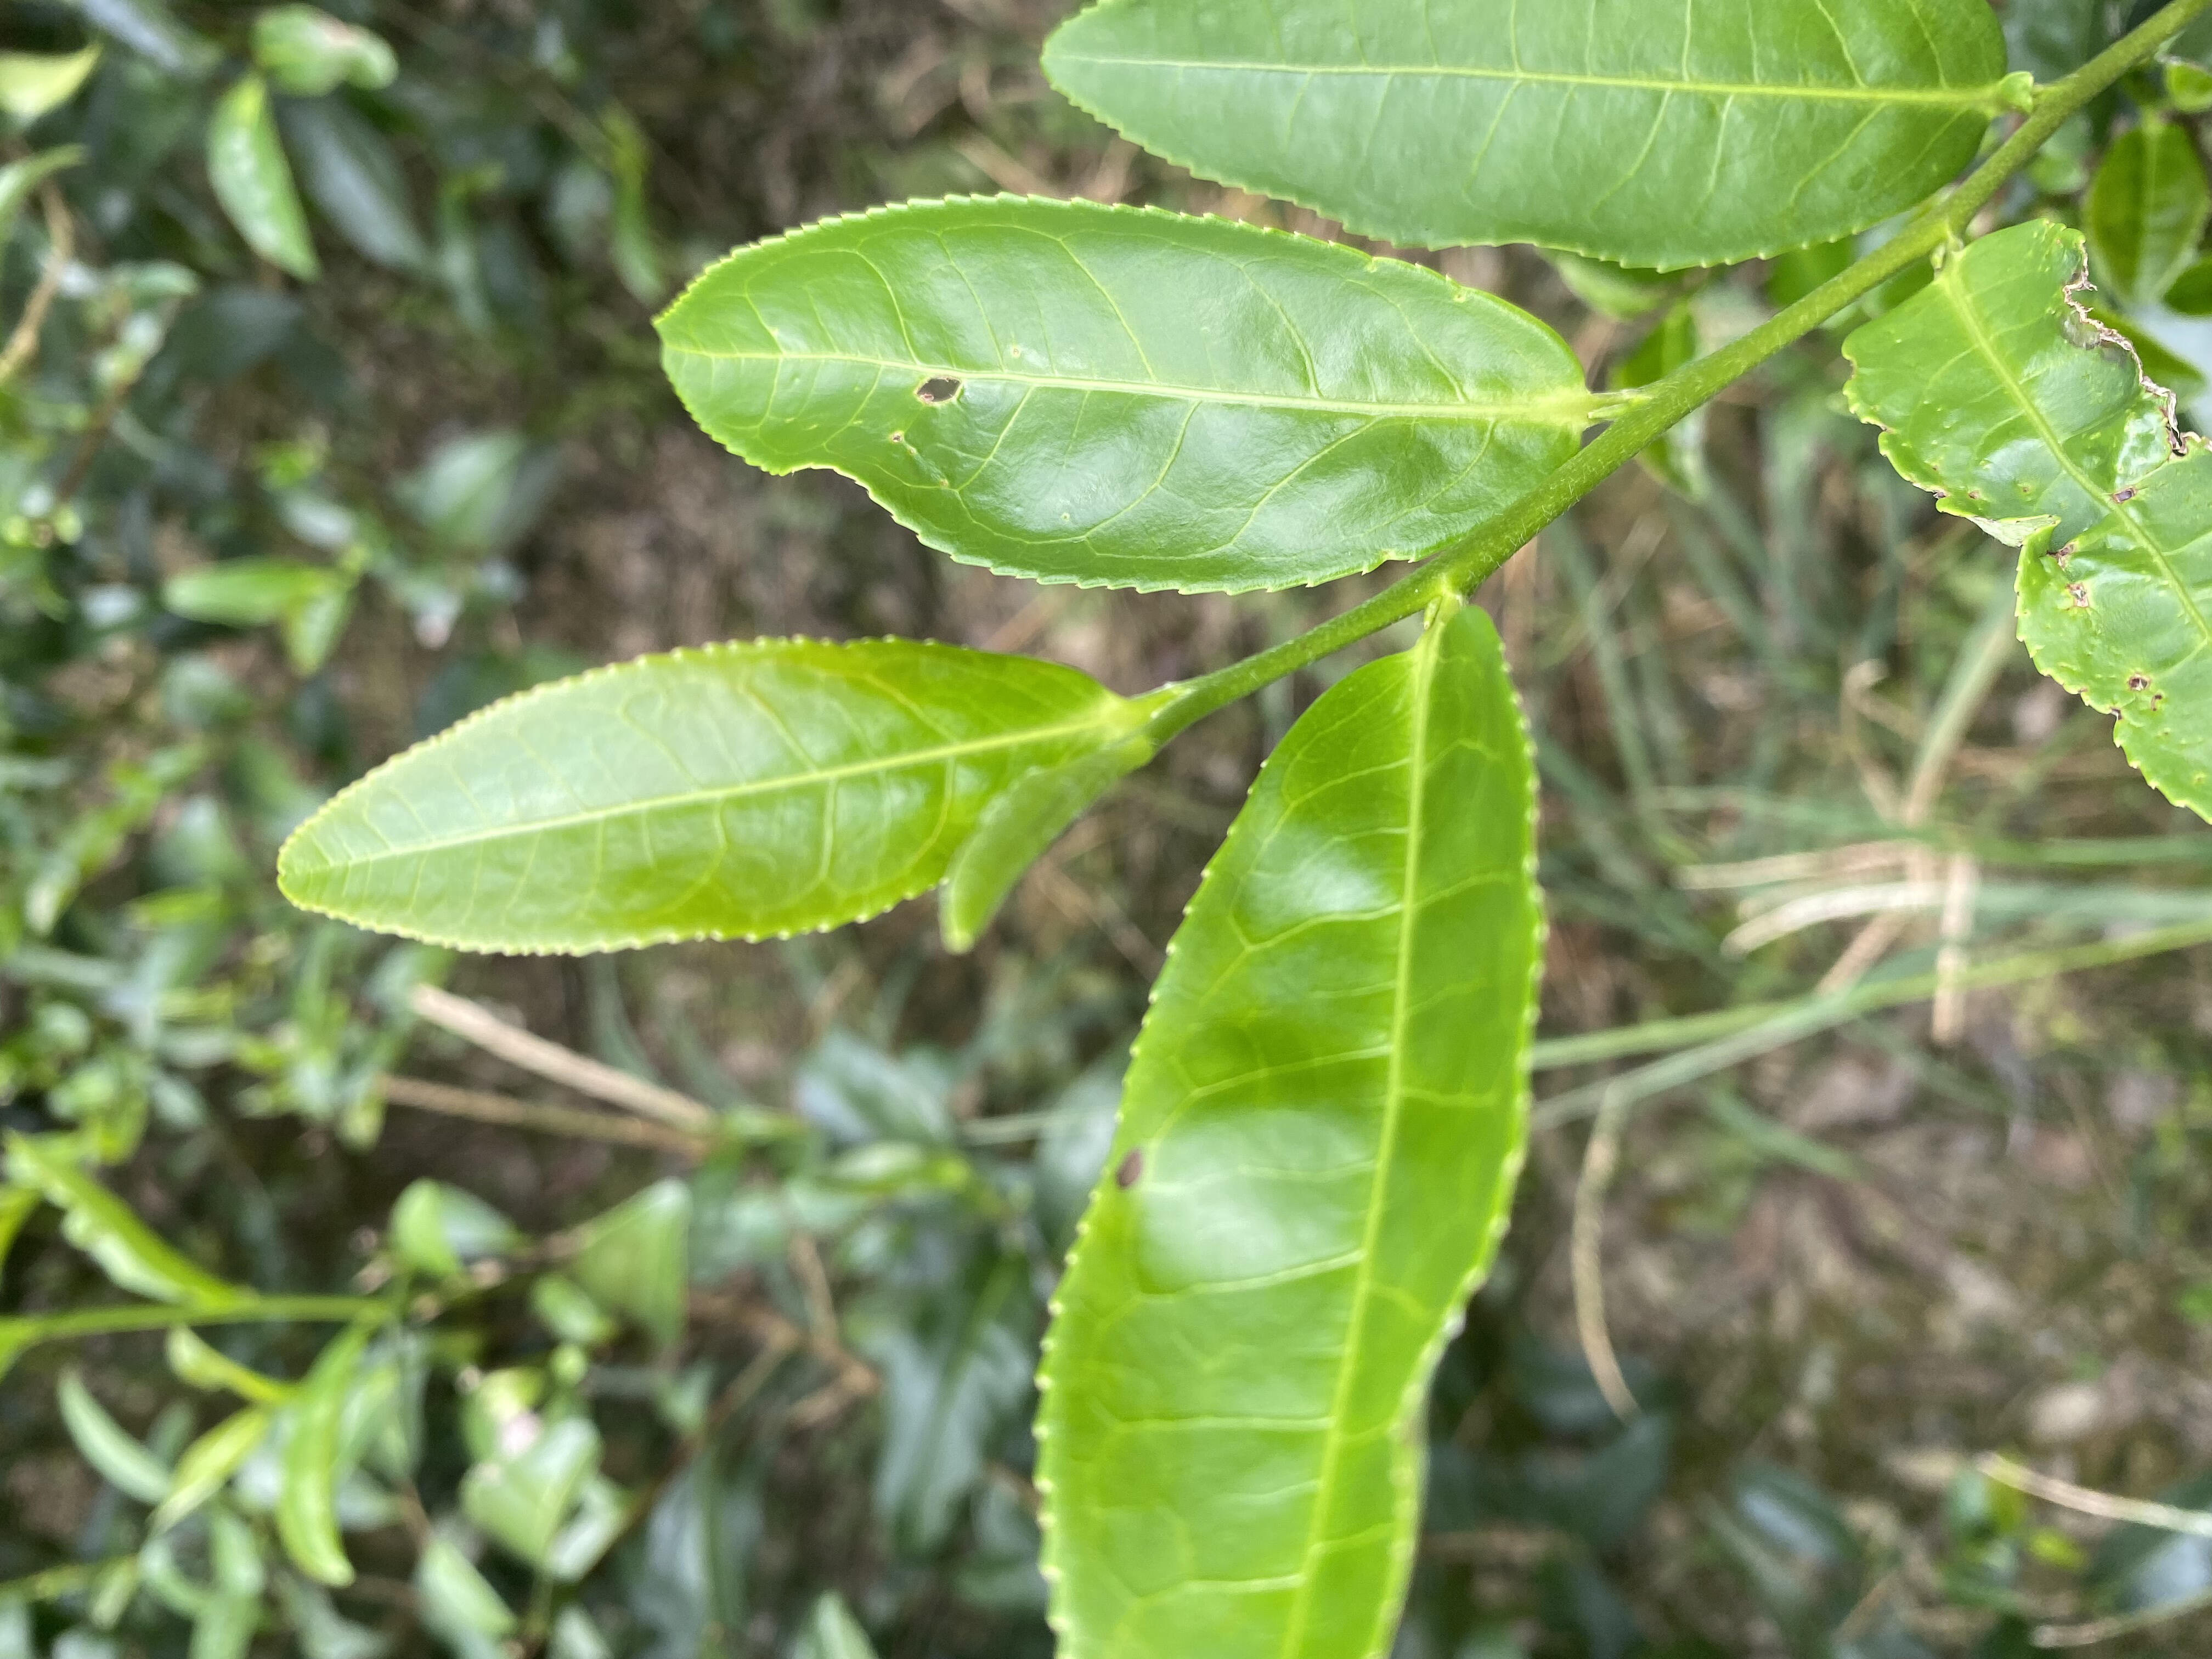chihuo_low: (653, 192, 1581, 596)
healthy: (273, 629, 1118, 957), (1040, 3, 2012, 272)
tanju_low: (1029, 599, 1550, 1654)
